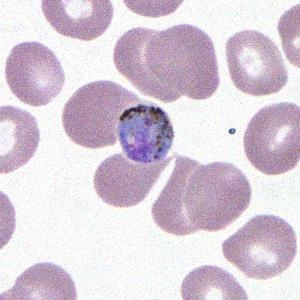Infected: (119, 105, 175, 163)
Uninfected: (147, 23, 220, 100), (114, 25, 182, 103), (63, 79, 138, 149), (223, 213, 299, 279), (185, 161, 252, 232), (95, 150, 173, 208), (151, 152, 204, 235), (243, 101, 300, 175), (227, 28, 289, 95), (5, 41, 64, 107), (41, 0, 113, 42), (0, 105, 39, 173), (12, 263, 77, 300), (181, 264, 247, 300)
